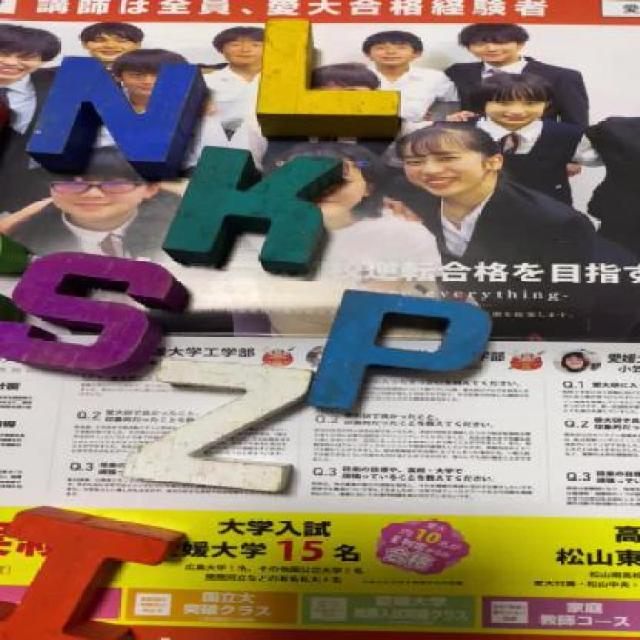K: (160, 145, 342, 266)
L: (251, 18, 403, 138)
N: (33, 63, 218, 179)
P: (308, 292, 484, 408)
S: (16, 252, 192, 370)
Z: (138, 359, 308, 493)
